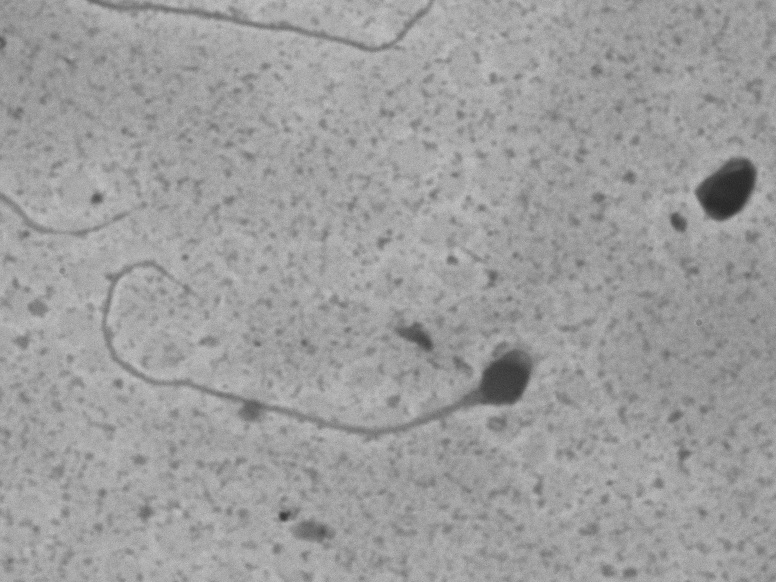Abnormal: (73, 233, 567, 452)
